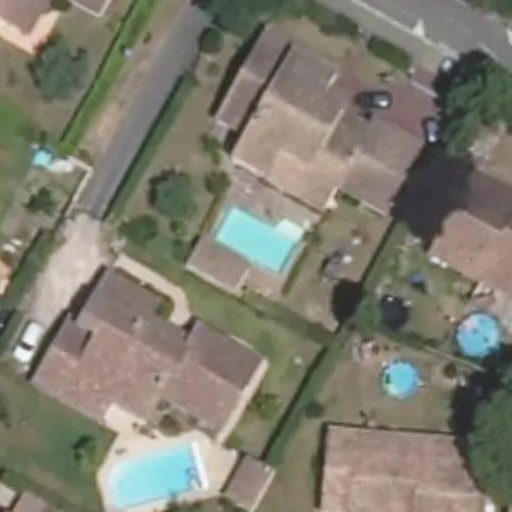pool: (217, 209, 299, 270), (114, 446, 197, 506), (458, 316, 499, 358), (382, 361, 421, 397)
